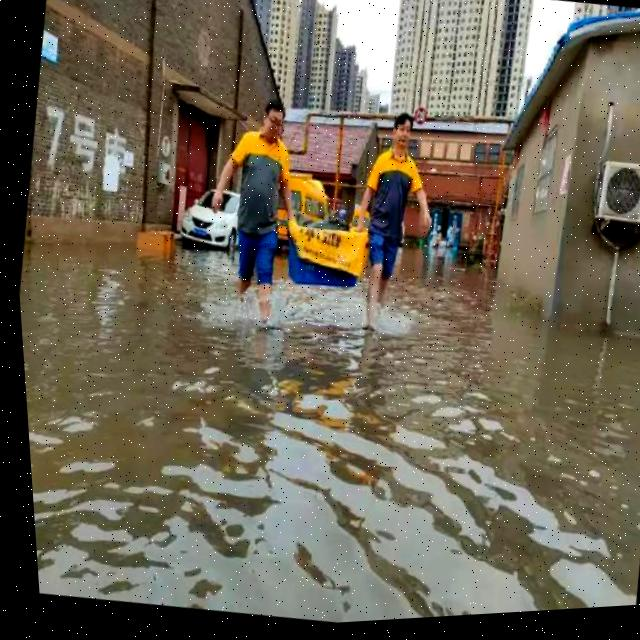civilian: (171, 69, 343, 364), (311, 89, 471, 359)
